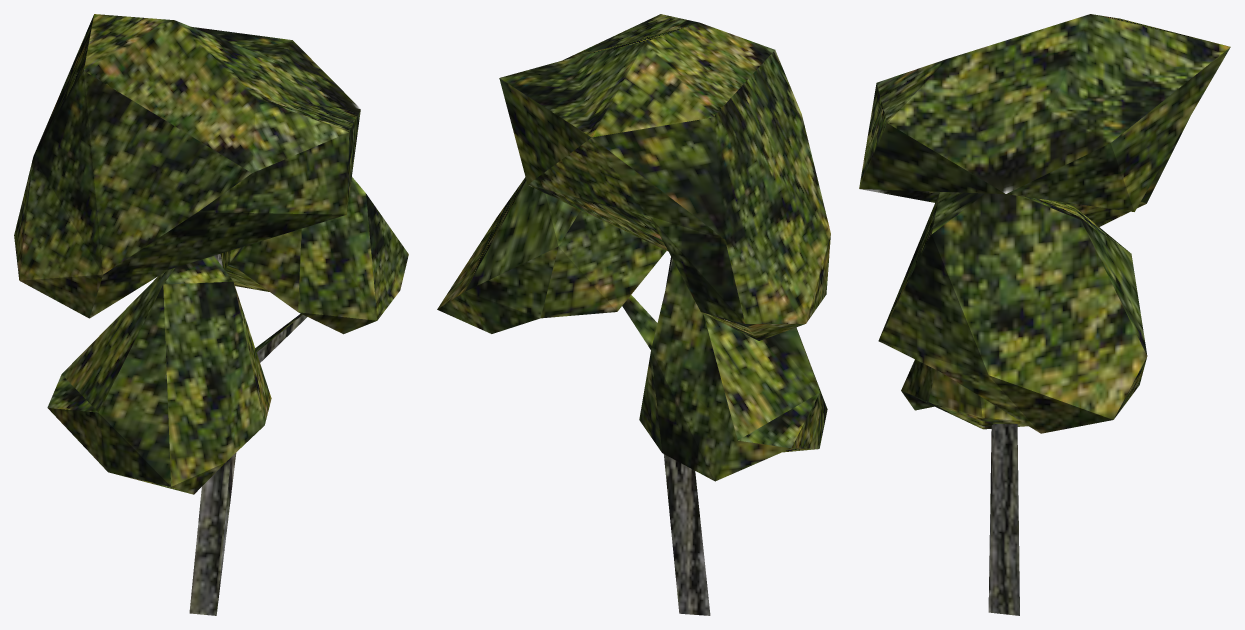
The model's file is tree_06.fbx.
3 renders of one model, left to right at view 1: azimuth 30°, elevation 25°; view 2: azimuth 150°, elevation 25°; view 3: azimuth 270°, elevation 25°, orthographic. The views are drawn at different scales.
Parts seen in each view (by area): view 1: Tree_Type3_01_fix_mesh; view 2: Tree_Type3_01_fix_mesh; view 3: Tree_Type3_01_fix_mesh.
Part boxes in pixels (x1,y1,x2,y2): Tree_Type3_01_fix_mesh: [14, 14, 408, 615]; Tree_Type3_01_fix_mesh: [437, 14, 830, 615]; Tree_Type3_01_fix_mesh: [859, 14, 1230, 615].
Size of the model in its own units: 182 by 286 by 160.
Materials: 1 (1 with a texture image).
